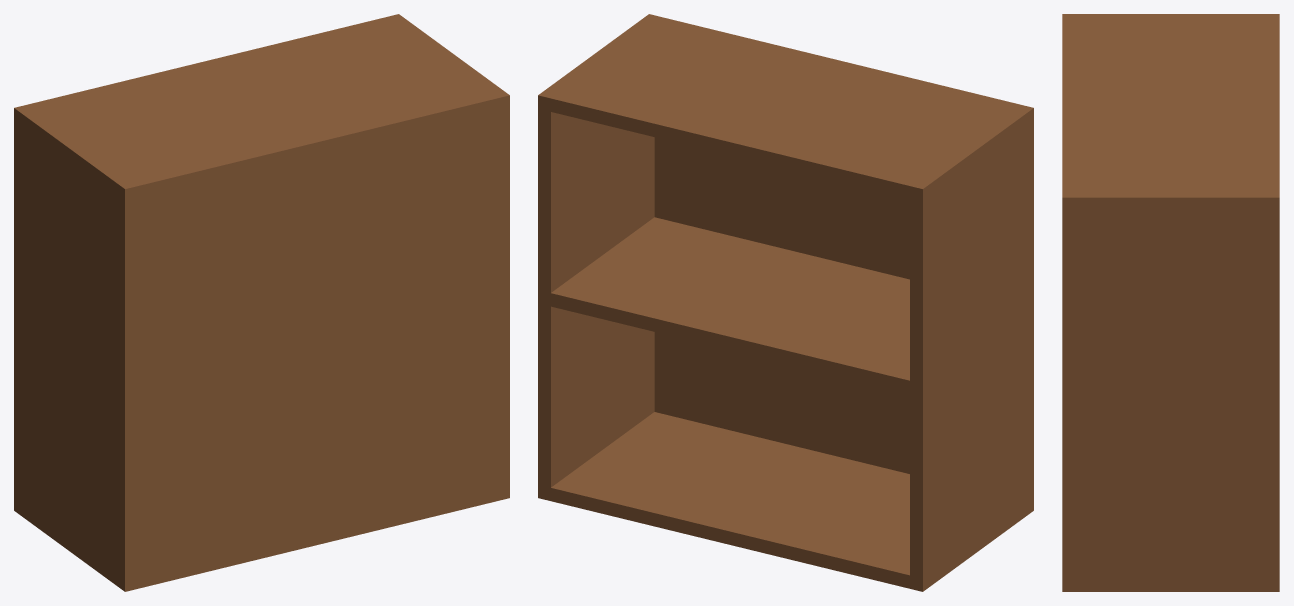
File: parametric-wall-shelf-1st-0600x0300x0600.glb
3 renders of one model, left to right at view 1: azimuth 30°, elevation 25°; view 2: azimuth 150°, elevation 25°; view 3: azimuth 270°, elevation 25°, orthographic. The views are drawn at different scales.
Visible parts, largest first — view 1: backboard, end:-1, top, end:1; view 2: end:-1, backboard, top, bottom, shelf, end:1; view 3: end:1, top, backboard, end:-1.
Boxes of the visible parts, bbox=[...] form: backboard: bbox=[117, 90, 509, 591]; end:-1: bbox=[14, 105, 129, 586]; top: bbox=[27, 17, 488, 180]; end:1: bbox=[386, 14, 501, 92]; end:-1: bbox=[910, 110, 1026, 591]; backboard: bbox=[642, 14, 1033, 515]; top: bbox=[551, 22, 1013, 199]; bottom: bbox=[551, 412, 909, 588]; shelf: bbox=[551, 217, 909, 393]; end:1: bbox=[538, 19, 654, 500]; end:1: bbox=[1076, 191, 1279, 591]; top: bbox=[1076, 20, 1279, 191]; backboard: bbox=[1062, 14, 1076, 591]; end:-1: bbox=[1076, 14, 1279, 19].
Size of the model in its own units: 0.6 by 0.6 by 0.3.
